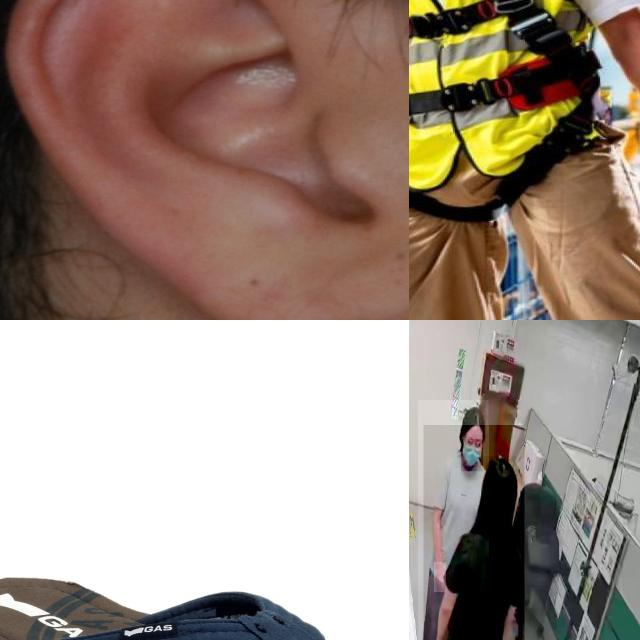Harness: (409, 0, 604, 208)
No_Ear-Protection: (6, 0, 409, 320)
Sandals: (0, 574, 409, 640)
face_mask: (461, 439, 483, 471)
hand_noglove: (434, 562, 446, 593), (433, 632, 446, 640)
head_nohelmet: (483, 456, 518, 491), (461, 405, 485, 433)
person: (423, 425, 524, 640), (418, 400, 489, 640)
